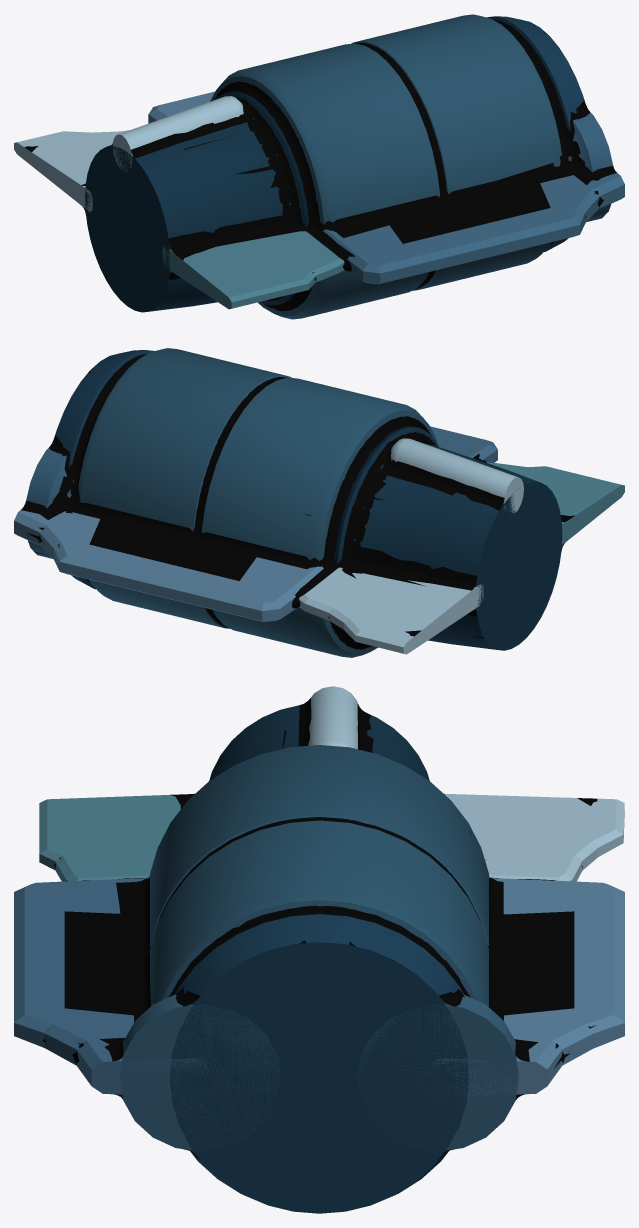
The model's file is newsh-caret-204.glb.
3 views of the same model, one above another, from view 1: azimuth 30°, elevation 25°; view 2: azimuth 150°, elevation 25°; view 3: azimuth 270°, elevation 25° (orthographic). The views are drawn at different scales.
Visible parts, largest first — view 1: newsh-caret-204, newsh-caret-204_outline; view 2: newsh-caret-204, newsh-caret-204_outline; view 3: newsh-caret-204, newsh-caret-204_outline.
Part boxes in pixels (<box>): newsh-caret-204: <box>14,14,624,319</box>; newsh-caret-204_outline: <box>24,20,616,311</box>; newsh-caret-204: <box>14,348,624,657</box>; newsh-caret-204_outline: <box>21,354,574,649</box>; newsh-caret-204: <box>14,686,624,1213</box>; newsh-caret-204_outline: <box>43,698,597,1159</box>.
Bounding box in the file's own units: 2 × 1.08 × 1.91.
